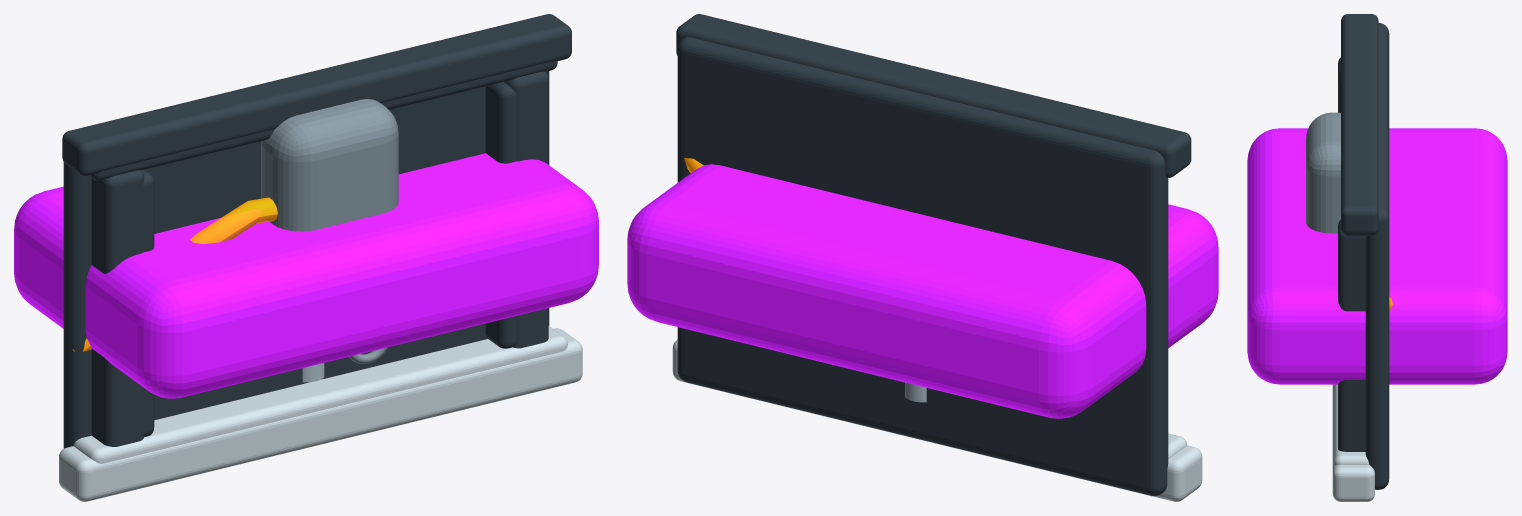
The model's file is body_24.glb.
The picture shows the model from 3 angles, left to right: view 1: azimuth 30°, elevation 25°; view 2: azimuth 150°, elevation 25°; view 3: azimuth 270°, elevation 25°; orthographic projection. The views are drawn at different scales.
Parts seen in each view (by area): view 1: asset_mesh__body_1178__reference_body, asset_mesh__body_1177__stamped_sheet, asset_mesh__body_1177__lower_flange, asset_mesh__body_1177__upper_flange, asset_mesh__body_1176__transmission_tunnel_relief, asset_mesh__body_1176__upper_flange, asset_mesh__body_1177__left_reinforcement, asset_mesh__body_1177__right_reinforcement, asset_mesh__body_1176__lower_flange, asset_mesh__body_1176__right_reinforcement, asset_mesh__body_1167__fluid_path, asset_mesh__body_1176__left_reinforcement; view 2: asset_mesh__body_1177__stamped_sheet, asset_mesh__body_1178__reference_body, asset_mesh__body_1177__lower_flange, asset_mesh__body_1177__upper_flange; view 3: asset_mesh__body_1178__reference_body, asset_mesh__body_1177__stamped_sheet, asset_mesh__body_1177__lower_flange, asset_mesh__body_1177__right_reinforcement, asset_mesh__body_1176__transmission_tunnel_relief, asset_mesh__body_1177__upper_flange, asset_mesh__body_1176__upper_flange.
Boxes of the visible parts, x1=… form: asset_mesh__body_1178__reference_body: x1=14, y1=153, x2=598, y2=398; asset_mesh__body_1177__stamped_sheet: x1=63, y1=71, x2=549, y2=448; asset_mesh__body_1177__lower_flange: x1=62, y1=14, x2=571, y2=176; asset_mesh__body_1177__upper_flange: x1=59, y1=328, x2=582, y2=501; asset_mesh__body_1176__transmission_tunnel_relief: x1=261, y1=99, x2=398, y2=231; asset_mesh__body_1176__upper_flange: x1=74, y1=326, x2=567, y2=463; asset_mesh__body_1177__left_reinforcement: x1=91, y1=170, x2=144, y2=446; asset_mesh__body_1177__right_reinforcement: x1=504, y1=71, x2=548, y2=348; asset_mesh__body_1176__lower_flange: x1=89, y1=61, x2=557, y2=180; asset_mesh__body_1176__right_reinforcement: x1=485, y1=82, x2=516, y2=348; asset_mesh__body_1167__fluid_path: x1=73, y1=197, x2=277, y2=351; asset_mesh__body_1176__left_reinforcement: x1=141, y1=170, x2=154, y2=436; asset_mesh__body_1177__stamped_sheet: x1=677, y1=37, x2=1168, y2=495; asset_mesh__body_1178__reference_body: x1=627, y1=164, x2=1218, y2=418; asset_mesh__body_1177__lower_flange: x1=676, y1=14, x2=1191, y2=177; asset_mesh__body_1177__upper_flange: x1=672, y1=339, x2=1202, y2=501; asset_mesh__body_1178__reference_body: x1=1247, y1=128, x2=1507, y2=384; asset_mesh__body_1177__stamped_sheet: x1=1365, y1=23, x2=1389, y2=489; asset_mesh__body_1177__lower_flange: x1=1341, y1=14, x2=1378, y2=235; asset_mesh__body_1177__right_reinforcement: x1=1338, y1=220, x2=1365, y2=451; asset_mesh__body_1176__transmission_tunnel_relief: x1=1306, y1=112, x2=1340, y2=233; asset_mesh__body_1177__upper_flange: x1=1332, y1=384, x2=1374, y2=501; asset_mesh__body_1176__upper_flange: x1=1334, y1=384, x2=1369, y2=465.
Bounding box in the file's own units: 1.63 × 1.09 × 0.882.
